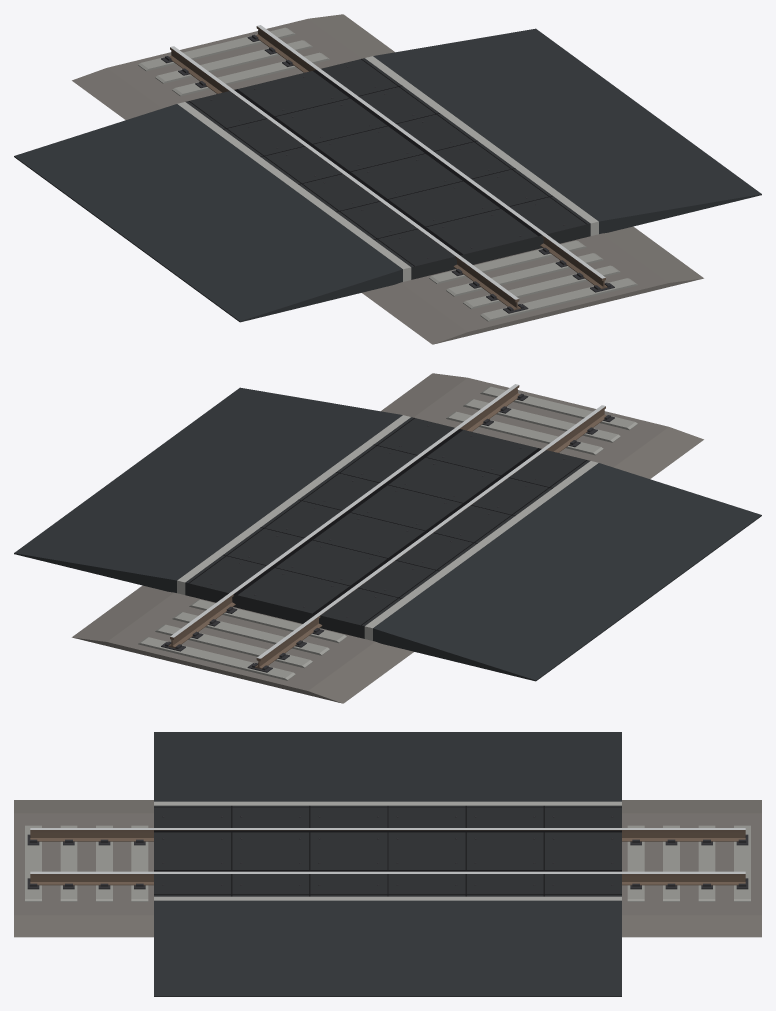
File: TK_RailwayCrossing_Tracks.glb
The picture shows the model from 3 angles, top to bottom: view 1: azimuth 30°, elevation 25°; view 2: azimuth 150°, elevation 25°; view 3: azimuth 270°, elevation 25°; orthographic projection. The views are drawn at different scales.
Visible parts, largest first — view 1: DriveSurface_Ramp_W, DriveSurface_Deck, DriveSurface_Ramp_E, Detail_Ballast, Detail_Sleepers, Detail_DeckSurface, Detail_Rail_L, Detail_Rail_R, DriveSurface_EdgeBeam_W, DriveSurface_EdgeBeam_E, Detail_Fastenings; view 2: DriveSurface_Ramp_W, DriveSurface_Deck, DriveSurface_Ramp_E, Detail_Ballast, Detail_Sleepers, Detail_DeckSurface, Detail_Rail_L, Detail_Rail_R, DriveSurface_EdgeBeam_W, DriveSurface_EdgeBeam_E, Detail_Fastenings; view 3: DriveSurface_Ramp_E, DriveSurface_Deck, DriveSurface_Ramp_W, Detail_Ballast, Detail_Sleepers, Detail_Rail_R, Detail_Rail_L, Detail_DeckSurface, DriveSurface_EdgeBeam_E, DriveSurface_EdgeBeam_W, Detail_Fastenings.
Boxes of the visible parts, bbox=[...] form: DriveSurface_Ramp_W: bbox=[14, 104, 402, 322]; DriveSurface_Deck: bbox=[185, 58, 590, 279]; DriveSurface_Ramp_E: bbox=[373, 28, 761, 233]; Detail_Ballast: bbox=[72, 14, 703, 344]; Detail_Sleepers: bbox=[138, 27, 637, 321]; Detail_DeckSurface: bbox=[188, 59, 587, 266]; Detail_Rail_L: bbox=[169, 46, 520, 310]; Detail_Rail_R: bbox=[256, 25, 607, 288]; DriveSurface_EdgeBeam_W: bbox=[177, 102, 411, 281]; DriveSurface_EdgeBeam_E: bbox=[365, 56, 598, 235]; Detail_Fastenings: bbox=[161, 34, 614, 313]; DriveSurface_Ramp_W: bbox=[373, 463, 761, 681]; DriveSurface_Deck: bbox=[185, 417, 590, 638]; DriveSurface_Ramp_E: bbox=[14, 387, 402, 592]; Detail_Ballast: bbox=[72, 373, 703, 703]; Detail_Sleepers: bbox=[138, 386, 637, 680]; Detail_DeckSurface: bbox=[188, 418, 587, 625]; Detail_Rail_L: bbox=[255, 405, 606, 669]; Detail_Rail_R: bbox=[168, 384, 519, 647]; DriveSurface_EdgeBeam_W: bbox=[364, 461, 598, 640]; DriveSurface_EdgeBeam_E: bbox=[177, 415, 410, 594]; Detail_Fastenings: bbox=[161, 393, 614, 672]; DriveSurface_Ramp_E: bbox=[154, 900, 621, 996]; DriveSurface_Deck: bbox=[154, 805, 621, 896]; DriveSurface_Ramp_W: bbox=[154, 732, 621, 801]; Detail_Ballast: bbox=[14, 800, 761, 937]; Detail_Sleepers: bbox=[25, 825, 750, 901]; Detail_Rail_R: bbox=[30, 871, 745, 885]; Detail_Rail_L: bbox=[30, 828, 745, 841]; Detail_DeckSurface: bbox=[154, 805, 621, 896]; DriveSurface_EdgeBeam_E: bbox=[154, 896, 621, 900]; DriveSurface_EdgeBeam_W: bbox=[154, 801, 621, 805]; Detail_Fastenings: bbox=[27, 834, 748, 889].
Bounding box in the file's own units: 9.6 × 0.386 × 11.5.
